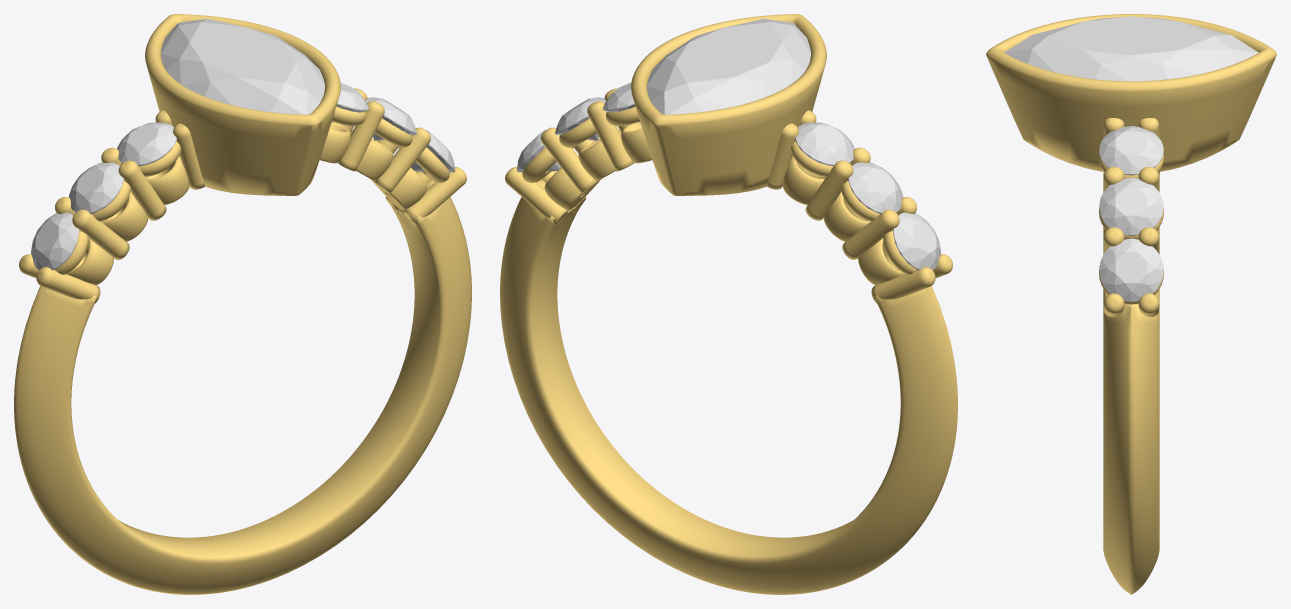
Rendered from diamond-marquise-yellowgold-bezelset-knifeedge-7stone.glb.
3 views of the same model, side by side, from view 1: azimuth 30°, elevation 25°; view 2: azimuth 150°, elevation 25°; view 3: azimuth 270°, elevation 25° (orthographic).
Visible parts, largest first — view 1: metal.002, stone.002, side.002, side.013, side.014, side.016, side.017, side.015; view 2: metal.002, stone.002, side.002, side.013, side.014, side.016, side.017; view 3: metal.002, stone.002, side.015, side.016, side.017.
Part boxes in pixels (<box>): metal.002: <box>14,14,471,594</box>; stone.002: <box>161,18,324,114</box>; side.002: <box>30,212,78,270</box>; side.013: <box>69,162,123,213</box>; side.014: <box>117,122,176,165</box>; side.016: <box>366,97,416,140</box>; side.017: <box>331,83,368,122</box>; side.015: <box>411,129,454,172</box>; metal.002: <box>500,14,957,594</box>; stone.002: <box>647,18,810,114</box>; side.002: <box>893,212,941,270</box>; side.013: <box>848,162,902,213</box>; side.014: <box>795,122,854,165</box>; side.016: <box>555,97,605,140</box>; side.017: <box>603,83,640,122</box>; metal.002: <box>986,14,1276,594</box>; stone.002: <box>1004,16,1258,81</box>; side.015: <box>1099,238,1163,301</box>; side.016: <box>1099,177,1163,235</box>; side.017: <box>1099,126,1163,175</box>.
Bounding box in the file's own units: 20.5 × 22.93 × 11.31.
